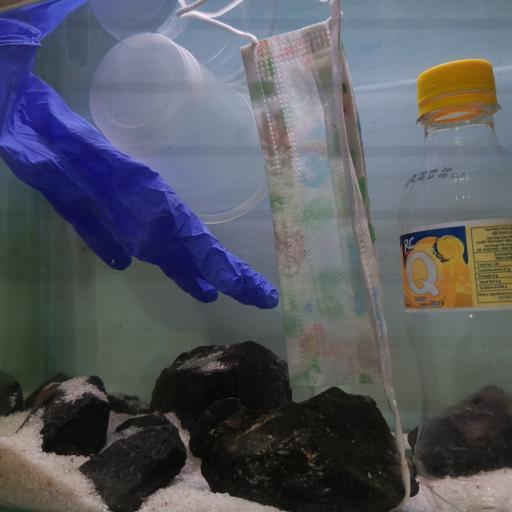bottle_cap: (416, 56, 502, 110)
glove: (0, 23, 278, 313)
mask: (245, 0, 397, 405)
plastic_bottle: (398, 54, 512, 512)
plastic_cup: (90, 32, 266, 228)
